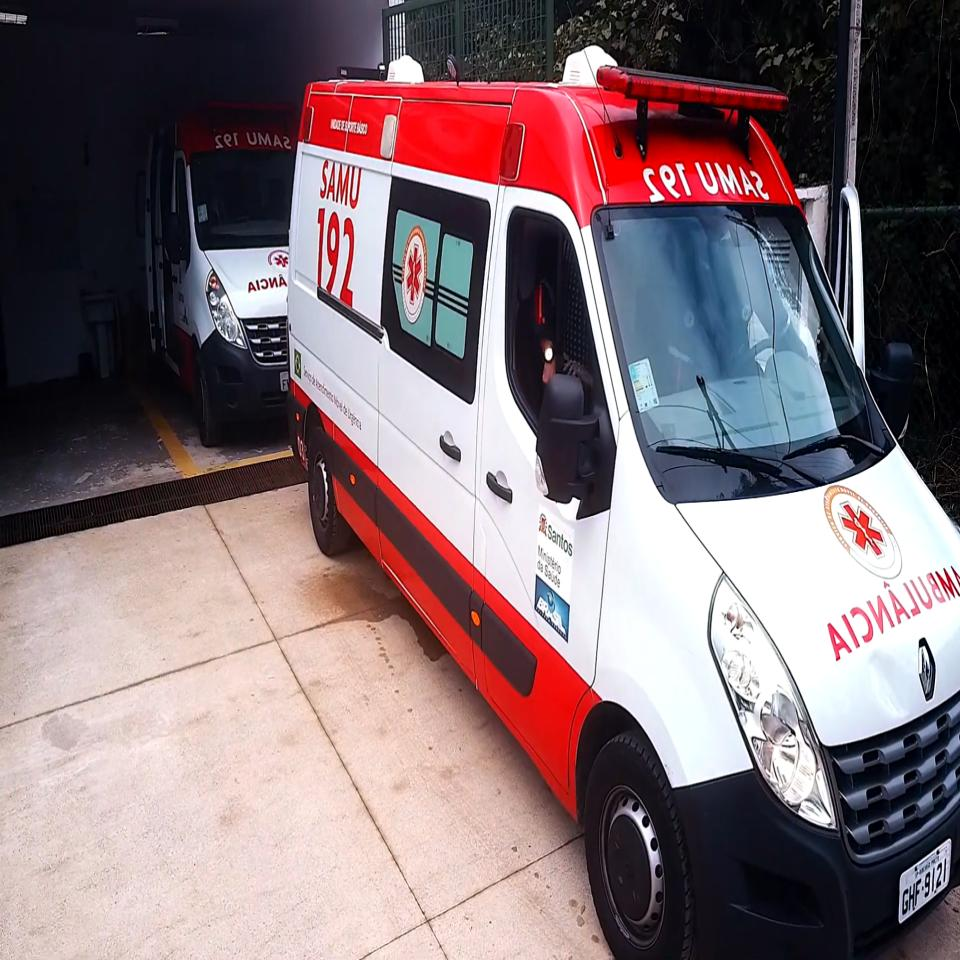bombeiro: (285, 61, 960, 960), (144, 89, 299, 448)
